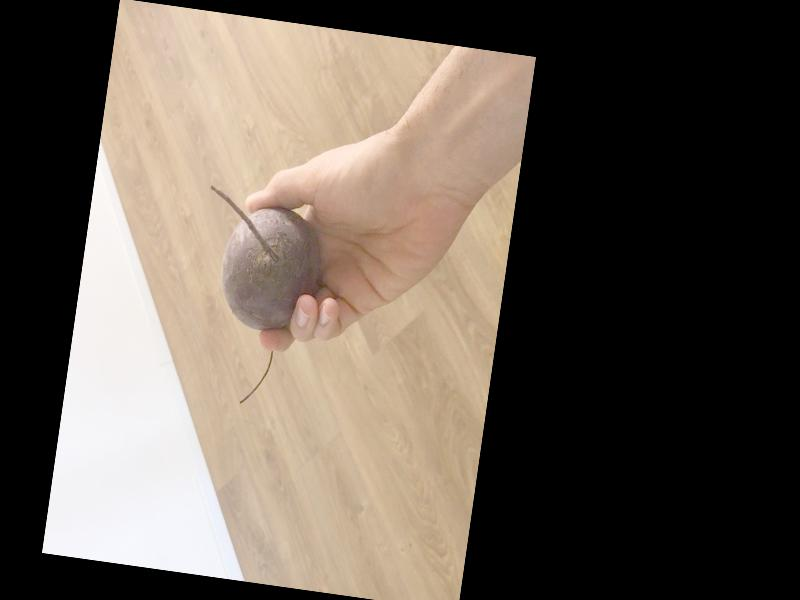Beet: (181, 186, 330, 413)
